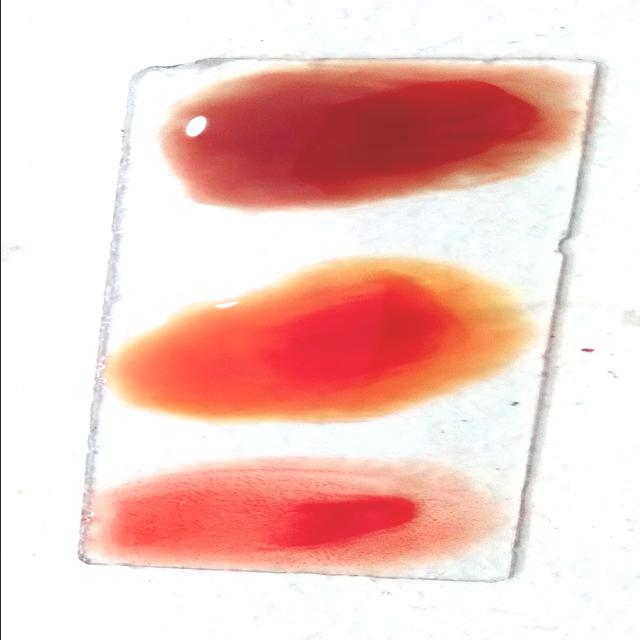D: (88, 465, 481, 563)
